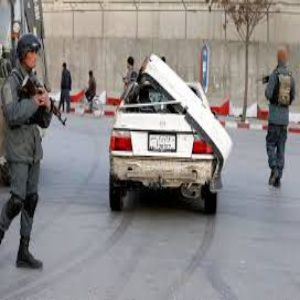bumper: (107, 154, 227, 195)
